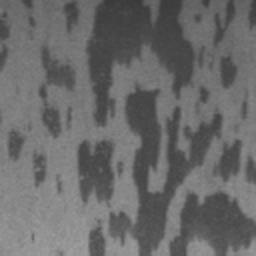Red iron sheet: (5, 0, 256, 256), (0, 12, 12, 72), (63, 1, 81, 33), (24, 15, 40, 40), (12, 86, 22, 96), (22, 0, 33, 9), (200, 0, 209, 9), (193, 15, 202, 24), (31, 233, 36, 241)
